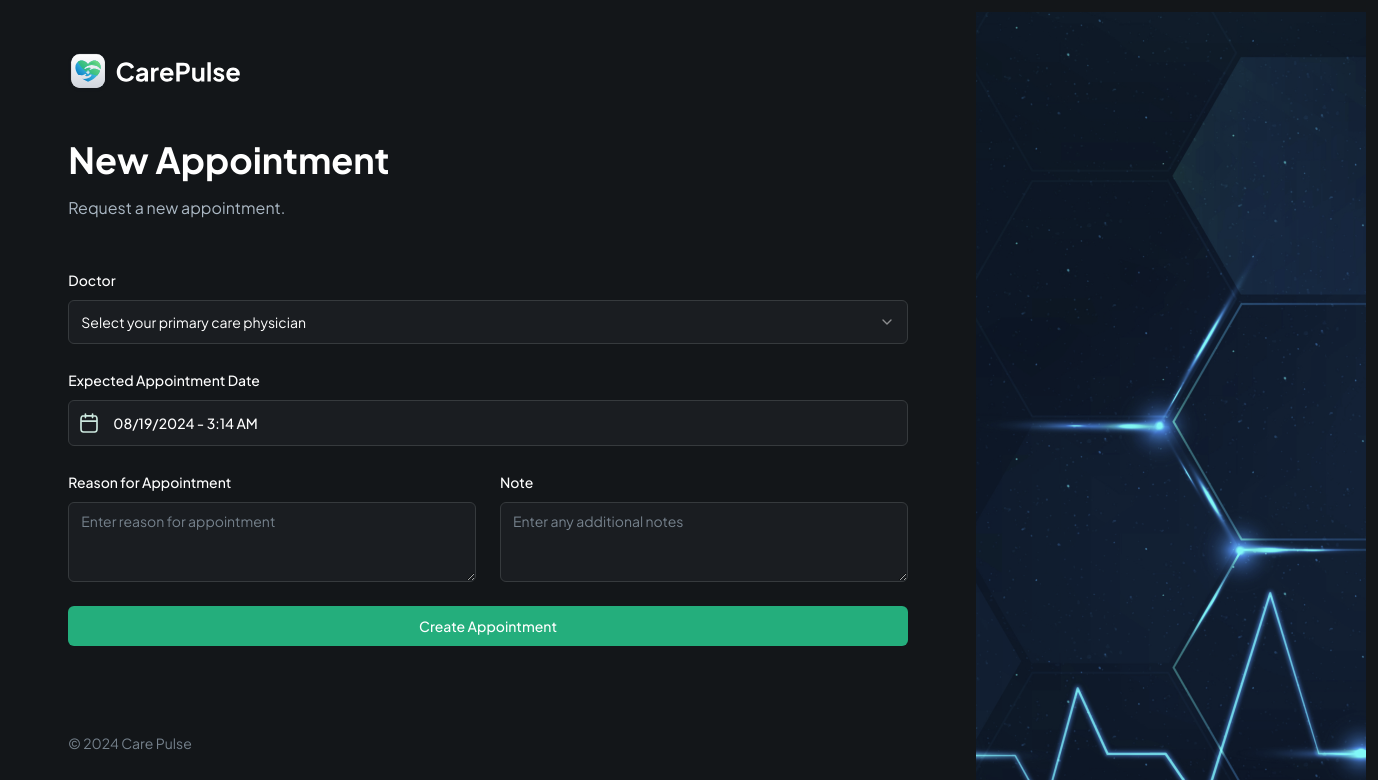
Test case: Appointment Page › sees errors if the form isn't filled out correctly
Click the submit button at (488, 626), box left=68, top=606, right=907, bottom=646
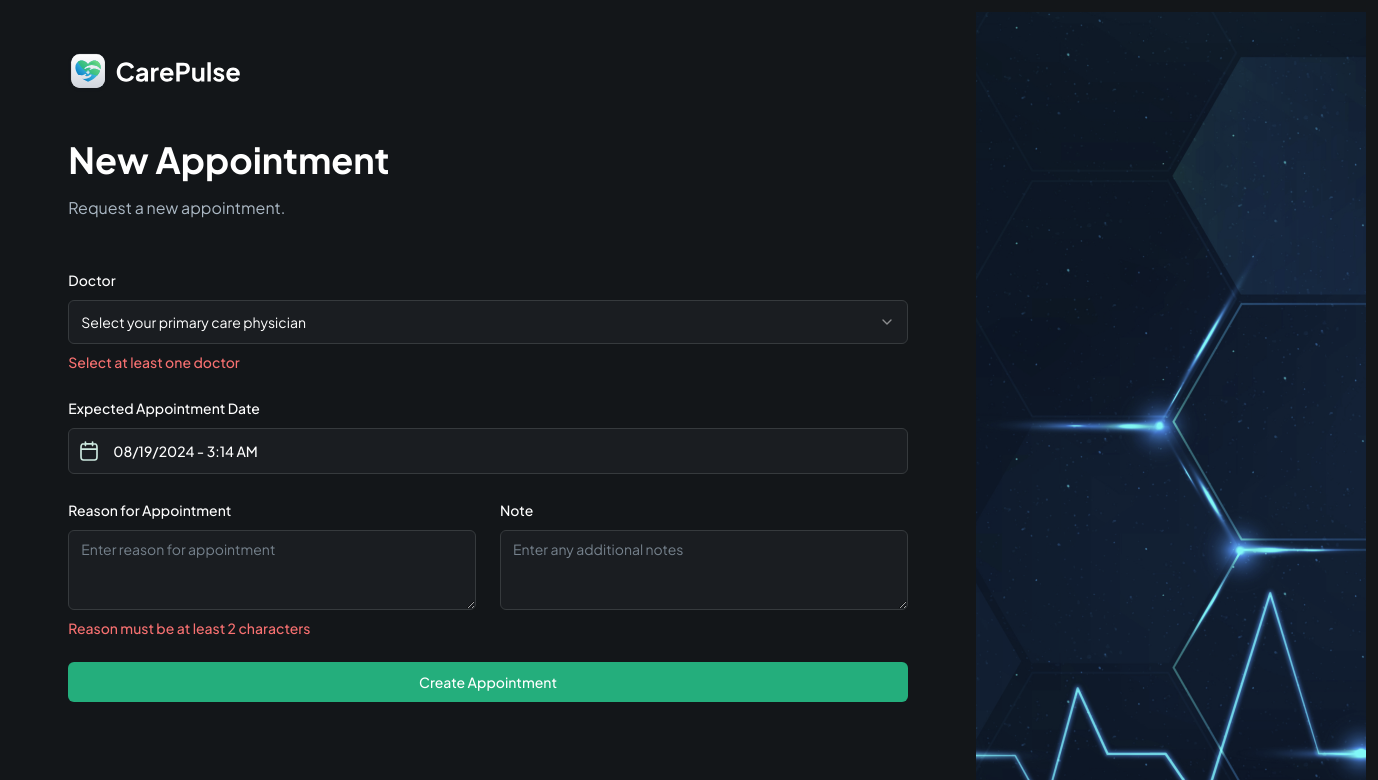
Now the text with class "shad-error" reads "Select at least one doctor", box left=68, top=353, right=240, bottom=371
Now the text with class "shad-error" reads "Reason must be at least 2 characters", box left=68, top=619, right=310, bottom=637
